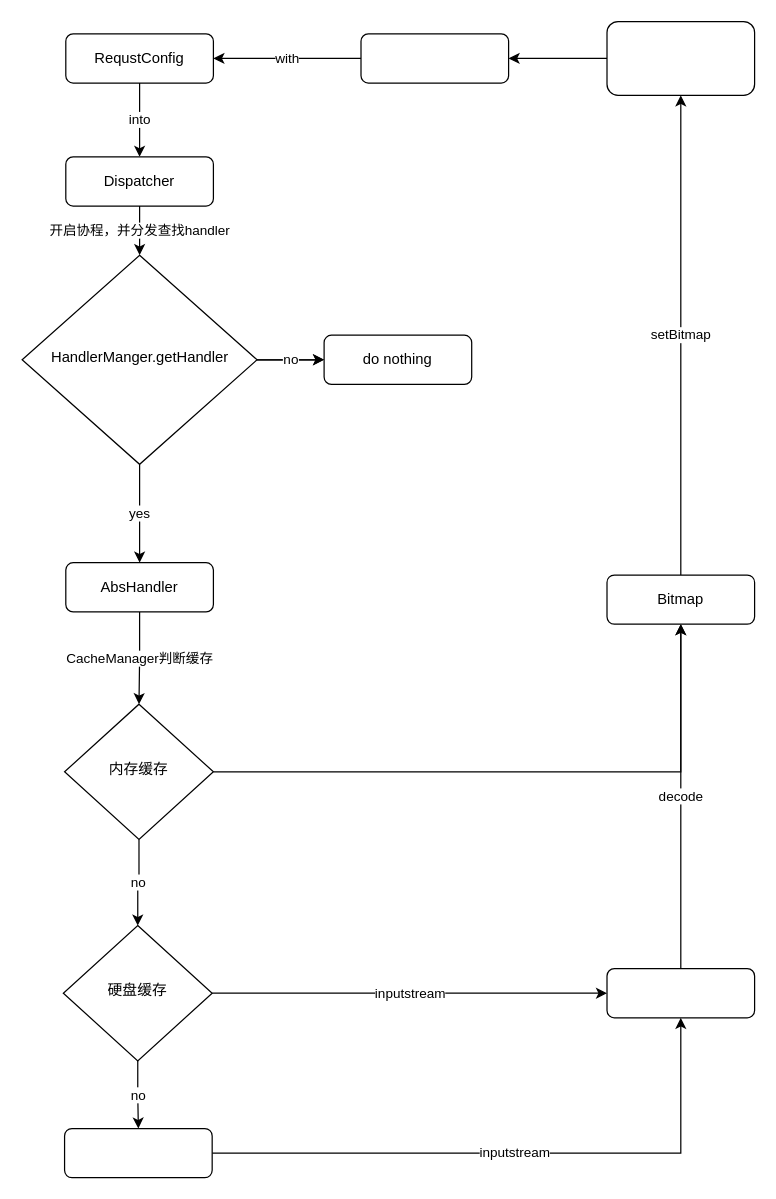
Some shapes in this 776 by 1199 pixel diagram are drawn without their labels. Here are the shapes that lost their labels. From the top down, the centre of each, then its label:
At pixel 434 58: "ImageLoader".
At pixel 680 57: "TargetImageView".
At pixel 680 992: "IBitmapDecoder".
At pixel 137 1152: "Downlaoder下载".
